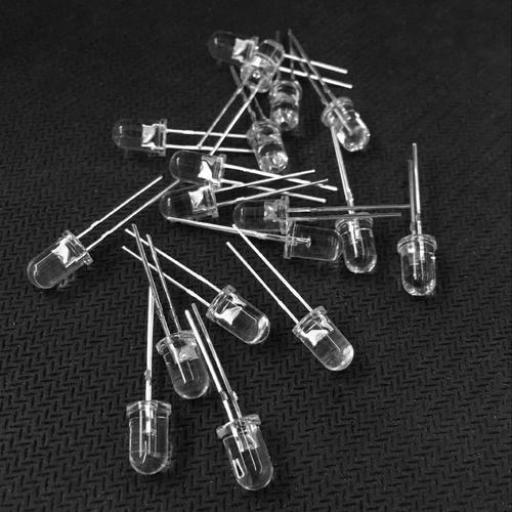LED: (278, 293, 378, 398), (23, 202, 113, 316), (206, 396, 301, 502), (192, 272, 283, 374), (297, 78, 393, 170), (393, 218, 472, 324), (124, 385, 188, 483), (153, 322, 227, 401), (104, 104, 191, 168), (271, 210, 352, 270), (328, 205, 392, 278), (240, 111, 303, 185), (175, 136, 249, 198), (228, 189, 302, 248), (256, 66, 316, 134), (208, 24, 281, 79), (156, 176, 228, 231), (238, 36, 292, 98)
